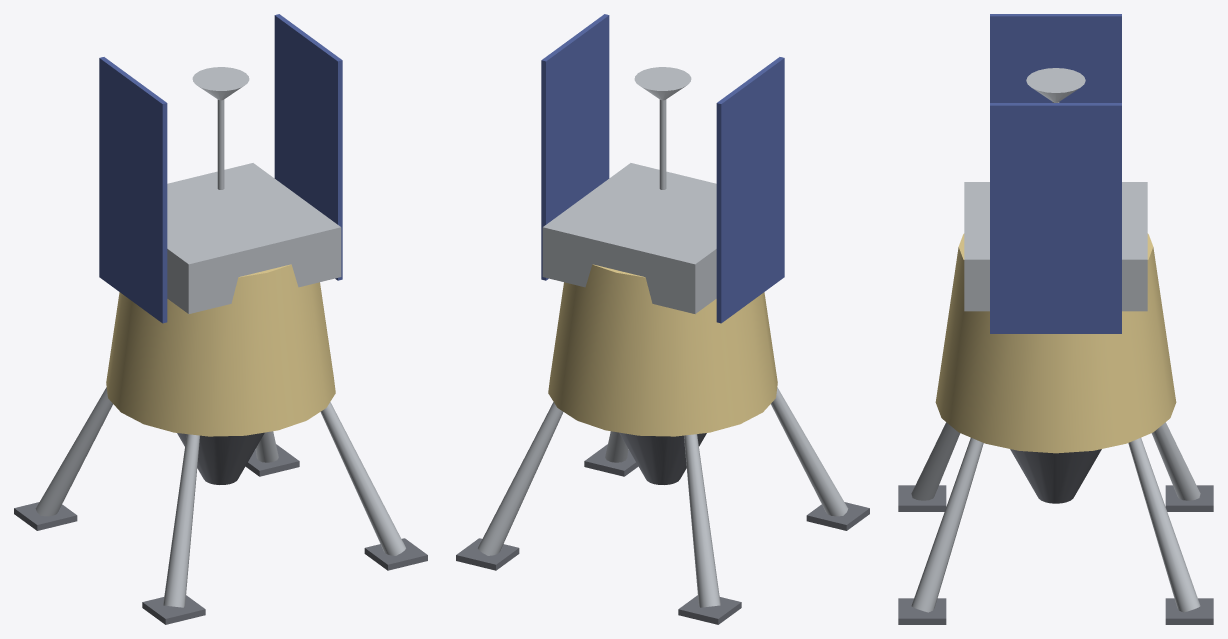
The model's file is moon_lander.glb.
3 renders of one model, left to right at view 1: azimuth 30°, elevation 25°; view 2: azimuth 150°, elevation 25°; view 3: azimuth 270°, elevation 25°, orthographic. The views are drawn at different scales.
Visible parts, largest first — view 1: 机身, 设备舱, panelL, panelR, 着陆腿1, 着陆腿0, 发动机喷口, 着陆腿2, 天线碟, 脚垫1, 脚垫0, 脚垫2 (+2 smaller); view 2: 机身, 设备舱, panelL, panelR, 着陆腿2, 着陆腿3, 发动机喷口, 着陆腿1, 天线碟, 脚垫2, 脚垫3, 脚垫1 (+2 smaller); view 3: panelR, 机身, panelL, 设备舱, 着陆腿0, 着陆腿3, 发动机喷口, 着陆腿1, 着陆腿2, 天线碟, 脚垫0, 脚垫3 (+2 smaller).
Part boxes in pixels (left/top/right/bottom): 机身: left=106, top=264, right=335, bottom=436; 设备舱: left=167, top=163, right=341, bottom=313; panelL: left=99, top=57, right=167, bottom=323; panelR: left=274, top=14, right=342, bottom=280; 着陆腿1: left=163, top=434, right=199, bottom=607; 着陆腿0: left=320, top=402, right=405, bottom=555; 发动机喷口: left=177, top=432, right=264, bottom=484; 着陆腿2: left=35, top=387, right=112, bottom=516; 天线碟: left=192, top=67, right=249, bottom=100; 脚垫1: left=142, top=595, right=205, bottom=624; 脚垫0: left=364, top=538, right=427, bottom=570; 脚垫2: left=14, top=502, right=77, bottom=530; 机身: left=548, top=264, right=777, bottom=436; 设备舱: left=542, top=163, right=716, bottom=313; panelL: left=716, top=57, right=784, bottom=323; panelR: left=541, top=14, right=609, bottom=280; 着陆腿2: left=684, top=434, right=720, bottom=607; 着陆腿3: left=478, top=402, right=563, bottom=555; 发动机喷口: left=619, top=432, right=706, bottom=484; 着陆腿1: left=771, top=387, right=848, bottom=516; 天线碟: left=634, top=67, right=691, bottom=100; 脚垫2: left=678, top=595, right=741, bottom=624; 脚垫3: left=456, top=538, right=519, bottom=570; 脚垫1: left=806, top=502, right=869, bottom=530; panelR: left=990, top=103, right=1121, bottom=333; 机身: left=935, top=233, right=1176, bottom=453; panelL: left=990, top=14, right=1121, bottom=102; 设备舱: left=964, top=182, right=1147, bottom=311; 着陆腿0: left=911, top=438, right=983, bottom=612; 着陆腿3: left=1128, top=438, right=1200, bottom=612; 发动机喷口: left=1010, top=449, right=1101, bottom=503; 着陆腿1: left=911, top=422, right=960, bottom=500; 着陆腿2: left=1151, top=422, right=1200, bottom=500; 天线碟: left=1026, top=68, right=1085, bottom=102; 脚垫0: left=898, top=598, right=946, bottom=624; 脚垫3: left=1165, top=598, right=1213, bottom=624.
Bounding box in the file's own units: 2.75 × 4.8 × 2.75.
